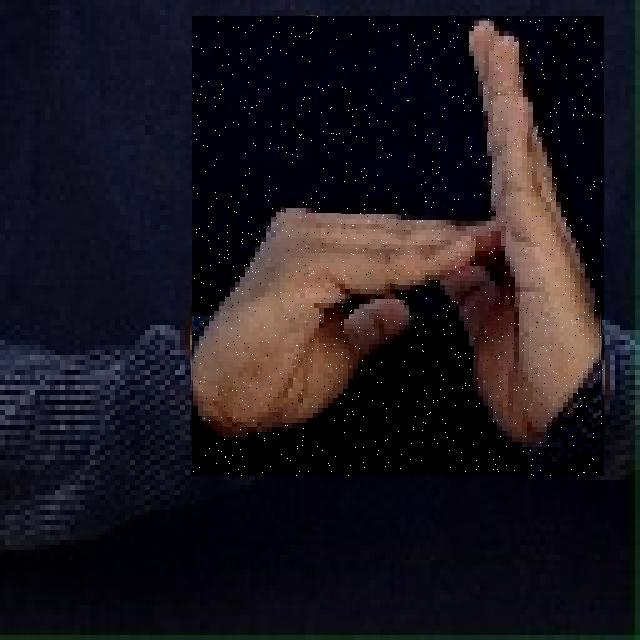Z: (192, 16, 604, 476)
